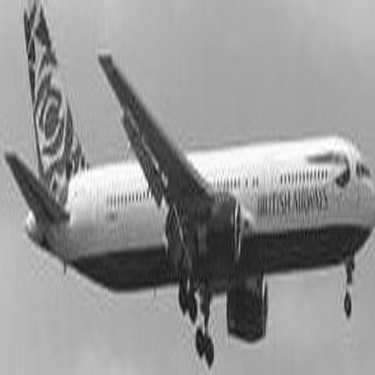airplane: (6, 2, 369, 371)
